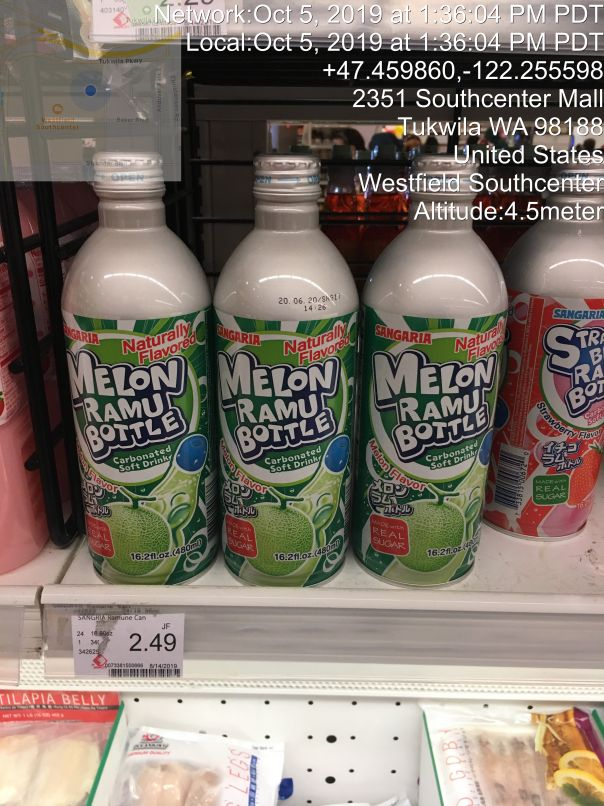Label: (62, 603, 209, 695)
Location: (347, 80, 601, 200)
Melon Ramu Bottle: (31, 115, 224, 584), (351, 114, 509, 595), (212, 114, 366, 590)
Time: (105, 1, 602, 61)
